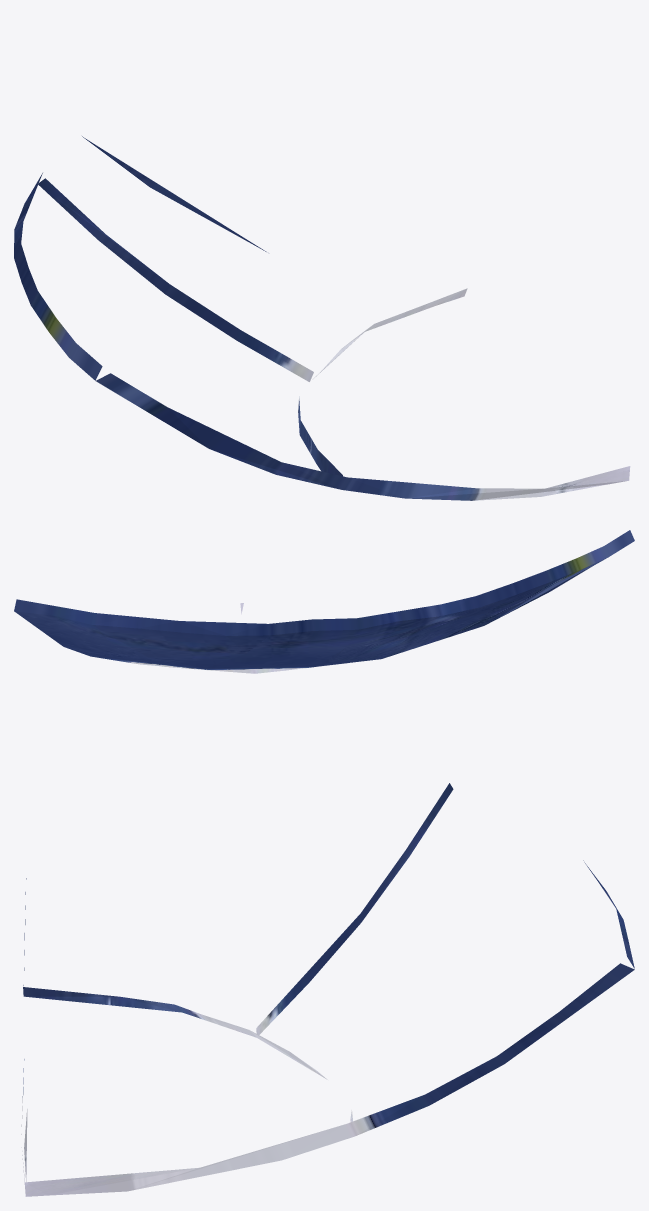
3 views of the same model, one above another, from view 1: azimuth 30°, elevation 25°; view 2: azimuth 150°, elevation 25°; view 3: azimuth 270°, elevation 25° (orthographic). The views are drawn at different scales.
Size of the model in its own units: 4630456 by 2012898 by 4636182.
1 material, 1 textured.
